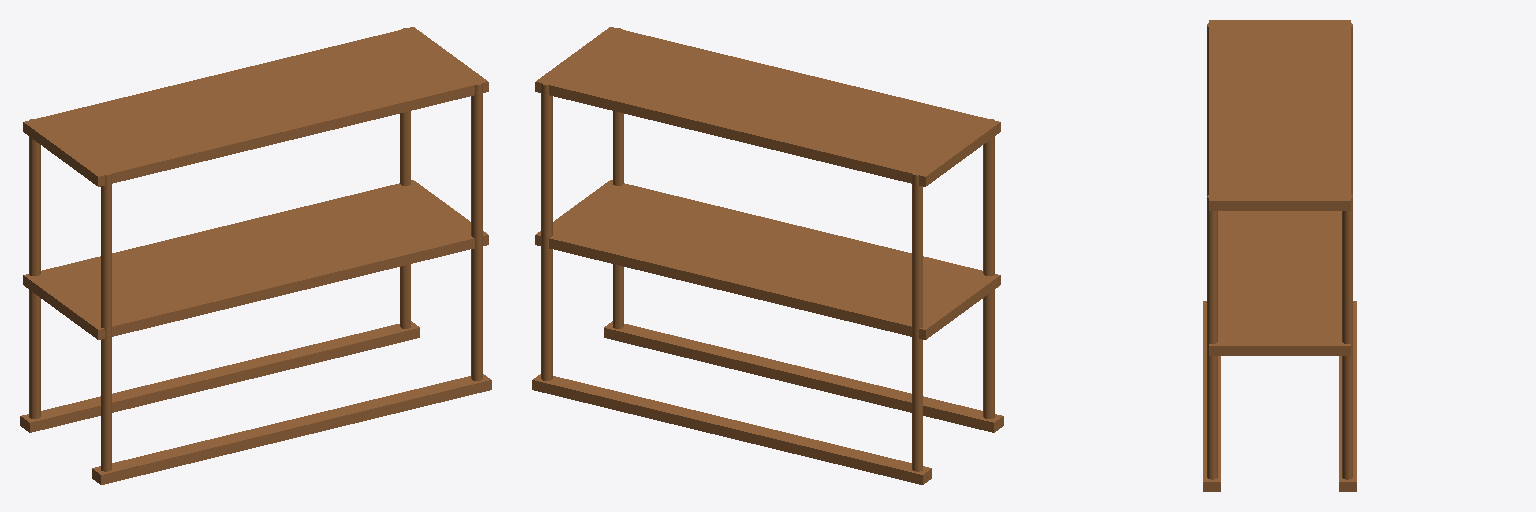
URDF robot description (steel_shelf):
<?xml version="1.0"?>
<robot name="steel_shelf">

  <material name="pine">
      <color rgba="0.64 0.45 0.28 1"/>
  </material>

  <!-- All parts welded into one rigid body for simplicity -->
  <link name="shelf_body">

    <!-- ───────────────────────────────────────────────────
         Inertial approximation (solid box, 20 kg)
         ─────────────────────────────────────────────────── -->
    <inertial>
      <!-- CoM in the geometric centre -->
      <origin xyz="0 0 0.45" rpy="0 0 0"/>
      <mass value="20"/>
      <!-- Ixx = 1/12·m·(h² + d²), etc. -->
      <inertia ixx="1.617" ixy="0" ixz="0"
               iyy="3.750" iyz="0"
               izz="2.667"/>
    </inertial>

    <!-- =====  VISUAL & COLLISION GEOMETRY  ========================== -->
    <!-- 1 TOP SHELF PLATE -->
    <visual>
      <origin xyz="0 0 0.885" rpy="0 0 0"/>
      <geometry><box size="1.20 0.40 0.03"/></geometry>
      <material name="pine"/>
    </visual>
    <collision>
      <origin xyz="0 0 0.885" rpy="0 0 0"/>
      <geometry><box size="1.20 0.40 0.03"/></geometry>
    </collision>

    <!-- 2) MID-SHELF PLATE -->
    <visual>
      <origin xyz="0 0 0.435" rpy="0 0 0"/>
      <geometry><box size="1.20 0.40 0.03"/></geometry>
      <material name="pine"/>
    </visual>
    <collision>
      <origin xyz="0 0 0.435" rpy="0 0 0"/>
      <geometry><box size="1.20 0.40 0.03"/></geometry>
    </collision>

    <!-- 3) FOUR VERTICAL POSTS (Ø 0.03 m) -->
    <!-- left-front -->
    <visual>
      <origin xyz="-0.57  0.19 0.45" rpy="0 0 0"/>
      <geometry><cylinder radius="0.015" length="0.90"/></geometry>
      <material name="pine"/>
    </visual>
    <collision>
      <origin xyz="-0.57  0.19 0.45" rpy="0 0 0"/>
      <geometry><cylinder radius="0.015" length="0.90"/></geometry>
    </collision>

    <!-- right-front -->
    <visual>
      <origin xyz=" 0.57  0.19 0.45" rpy="0 0 0"/>
      <geometry><cylinder radius="0.015" length="0.90"/></geometry>
      <material name="pine"/>
    </visual>
    <collision>
      <origin xyz=" 0.57  0.19 0.45" rpy="0 0 0"/>
      <geometry><cylinder radius="0.015" length="0.90"/></geometry>
    </collision>

    <!-- left-rear -->
    <visual>
      <origin xyz="-0.57 -0.19 0.45" rpy="0 0 0"/>
      <geometry><cylinder radius="0.015" length="0.90"/></geometry>
      <material name="pine"/>
    </visual>
    <collision>
      <origin xyz="-0.57 -0.19 0.45" rpy="0 0 0"/>
      <geometry><cylinder radius="0.015" length="0.90"/></geometry>
    </collision>

    <!-- right-rear -->
    <visual>
      <origin xyz=" 0.57 -0.19 0.45" rpy="0 0 0"/>
      <geometry><cylinder radius="0.015" length="0.90"/></geometry>
      <material name="pine"/>
    </visual>
    <collision>
      <origin xyz=" 0.57 -0.19 0.45" rpy="0 0 0"/>
      <geometry><cylinder radius="0.015" length="0.90"/></geometry>
    </collision>

    <!-- 4) BASE RUNNERS (front & back) -->
    <!-- front -->
    <visual>
      <origin xyz="0  0.19 0.015" rpy="0 0 0"/>
      <geometry><box size="1.20 0.05 0.03"/></geometry>
      <material name="pine"/>
    </visual>
    <collision>
      <origin xyz="0  0.19 0.015" rpy="0 0 0"/>
      <geometry><box size="1.20 0.05 0.03"/></geometry>
    </collision>

    <!-- back -->
    <visual>
      <origin xyz="0 -0.19 0.015" rpy="0 0 0"/>
      <geometry><box size="1.20 0.05 0.03"/></geometry>
      <material name="pine"/>
    </visual>
    <collision>
      <origin xyz="0 -0.19 0.015" rpy="0 0 0"/>
      <geometry><box size="1.20 0.05 0.03"/></geometry>
    </collision>

  </link>

</robot>

--- Facts derived from the render (not from the file) ---
3 views of the same robot in one strip: view 1: azimuth 30°, elevation 25°; view 2: azimuth 150°, elevation 25°; view 3: azimuth 270°, elevation 25° (orthographic).
Robot: steel_shelf — 1 links, 0 joints (none); root link shelf_body; default pose: all joints at 0.
Visible links, largest first — view 1: shelf_body; view 2: shelf_body; view 3: shelf_body.
Boxes of the visible links, box(x1,y1,x2,y2) form: shelf_body: box(20, 27, 491, 484); shelf_body: box(532, 27, 1003, 484); shelf_body: box(1203, 20, 1356, 491).
Size in the robot's own frame: 1.2 by 0.43 by 0.9 metres.
Geometry: primitives only (box / cylinder / sphere), no mesh files.
